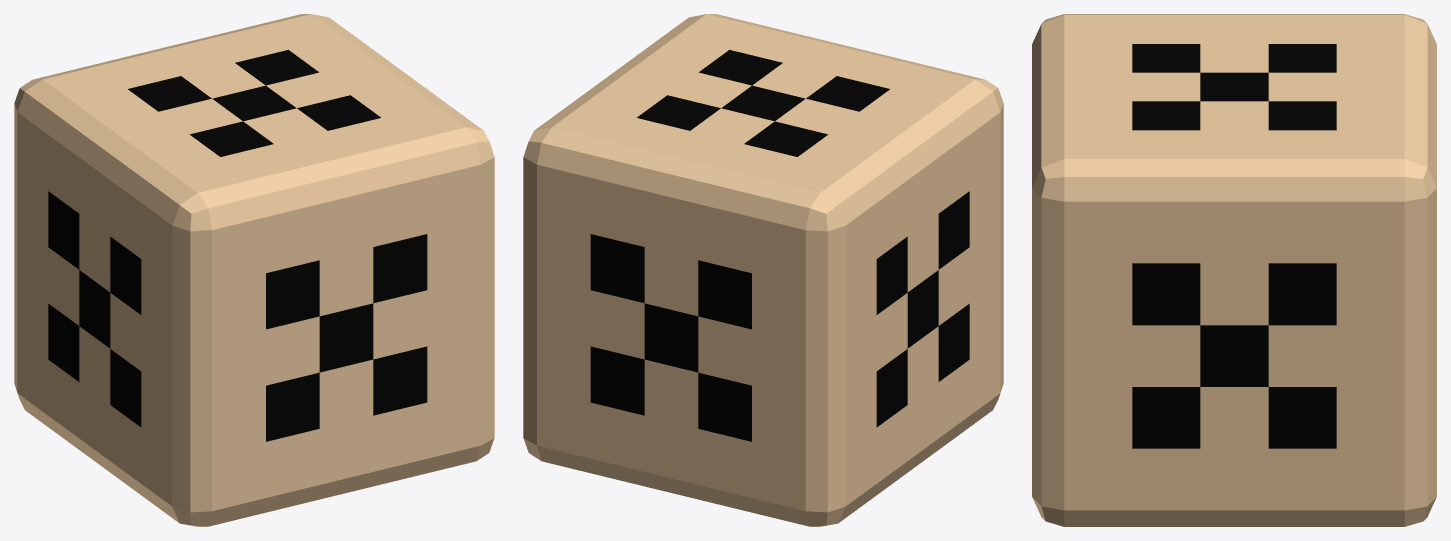
File: constant.fbx
3 renders of one model, left to right at view 1: azimuth 30°, elevation 25°; view 2: azimuth 150°, elevation 25°; view 3: azimuth 270°, elevation 25°, orthographic. The views are drawn at different scales.
Visible parts, largest first — view 1: Cube; view 2: Cube; view 3: Cube.
Boxes of the visible parts, <box> form: Cube: <box>14,14,494,526</box>; Cube: <box>523,14,1003,526</box>; Cube: <box>1032,14,1436,526</box>.
Bounding box in the file's own units: 200 × 200 × 200.
